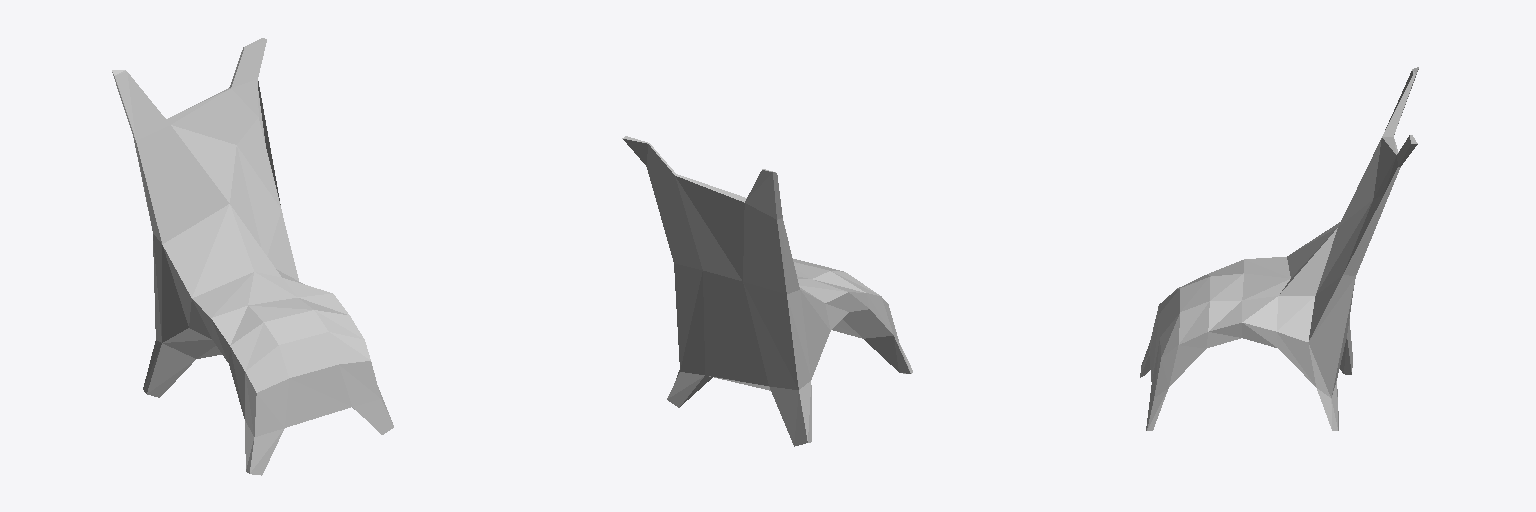
File: DogEnemy.obj
3 renders of one model, left to right at view 1: azimuth 30°, elevation 25°; view 2: azimuth 150°, elevation 25°; view 3: azimuth 270°, elevation 25°, orthographic.
Parts seen in each view (by area): view 1: Cube; view 2: Cube; view 3: Cube.
Boxes of the visible parts, x1,y1,x2,y2 form: Cube: [112, 38, 393, 475]; Cube: [622, 136, 912, 446]; Cube: [1140, 67, 1418, 430].
Size of the model in its own units: 8.57 by 16.35 by 13.52.